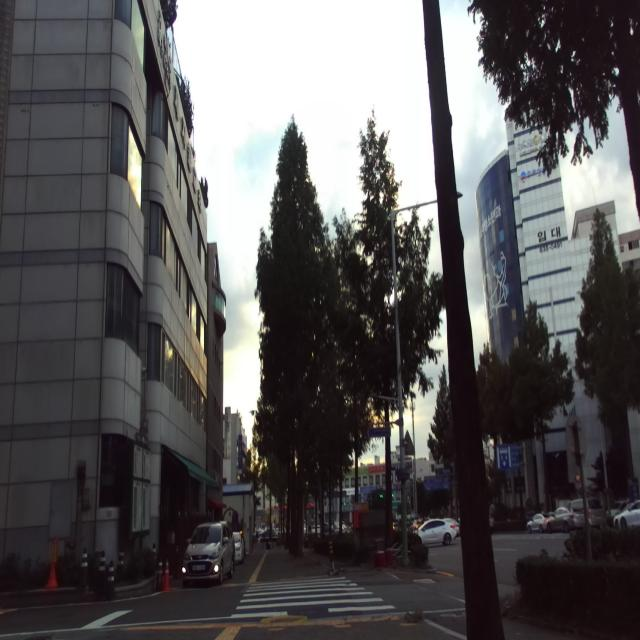횡단보도: (230, 576, 396, 618)
